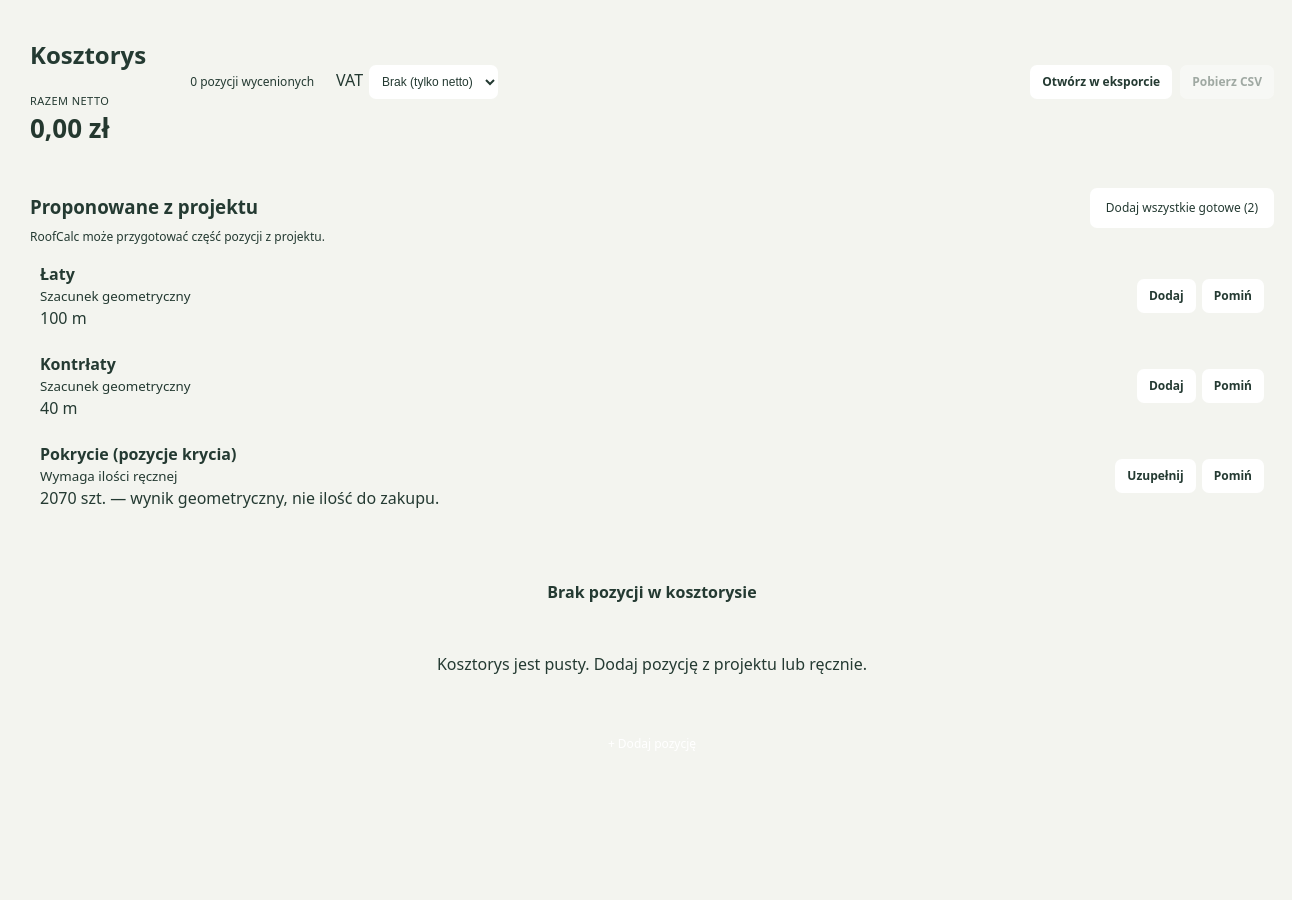
CostWorkspace › adds every proposal with a project quantity in one click, leaving manual ones listed
Click the button with test id "cost-add-ready": (1182, 208) [1090,188,1274,228]
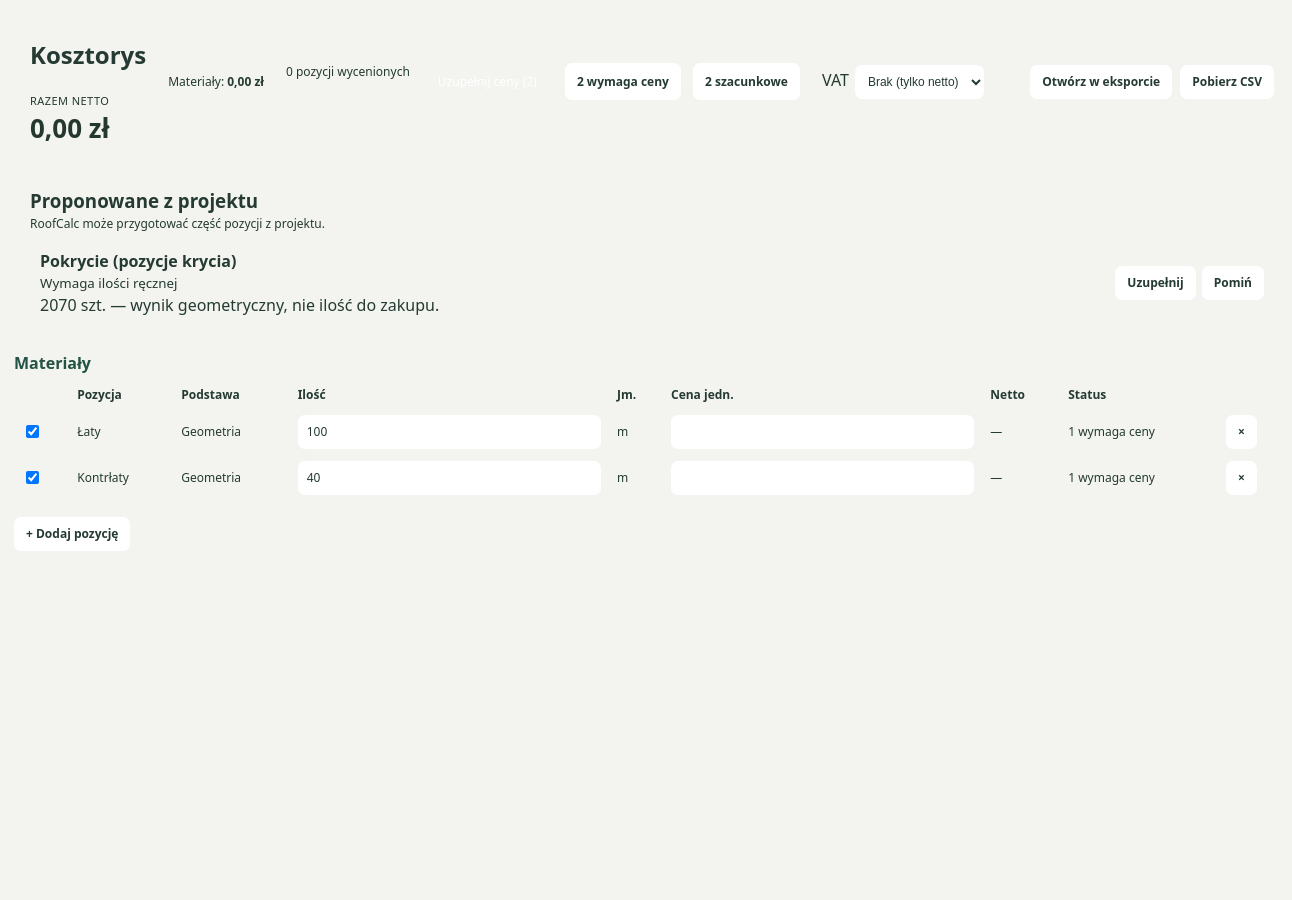
Expected: the button "Uzupełnij" is shown, [1115,266,1196,300]
Result: the button with test id "cost-add-ready" is gone
